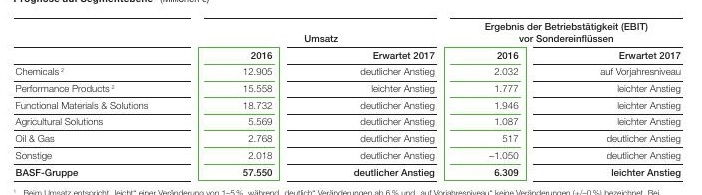table: (0, 0, 702, 195)
